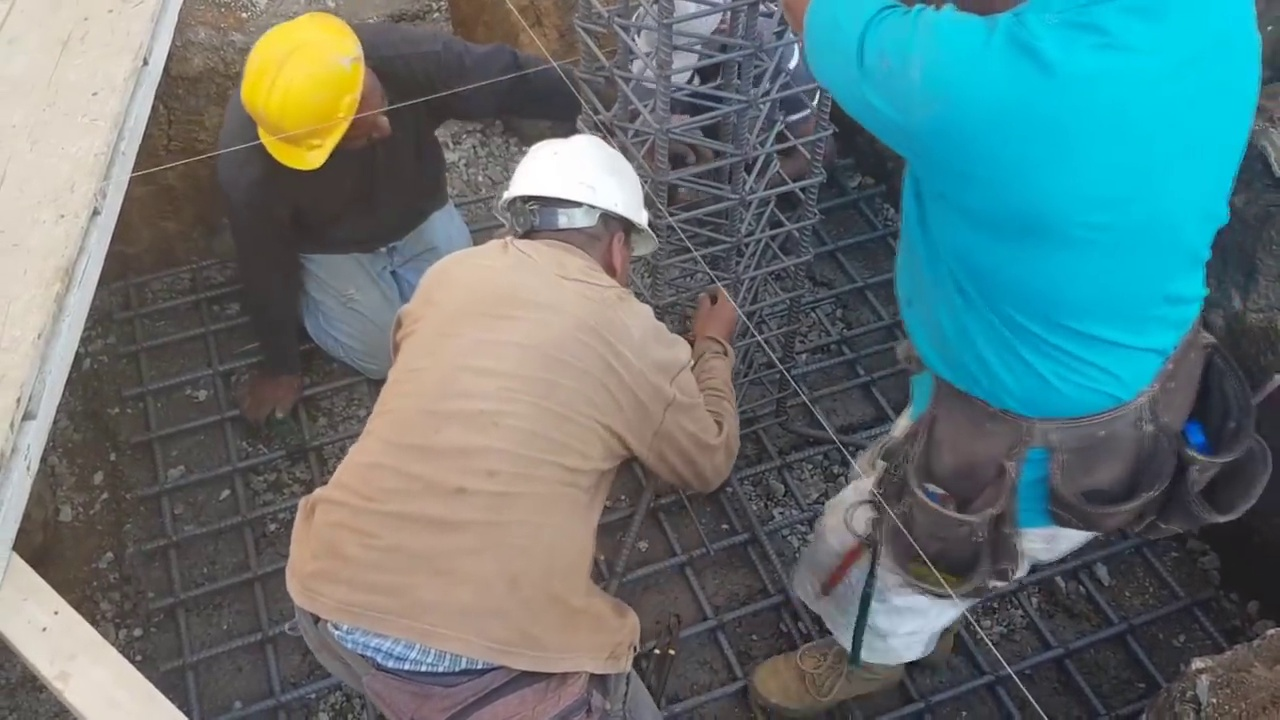helmet: (237, 16, 364, 173), (492, 130, 649, 249)
helmet-on: (218, 15, 392, 194), (494, 134, 657, 290)
person: (750, 0, 1280, 719), (294, 126, 742, 717), (212, 0, 541, 431)
